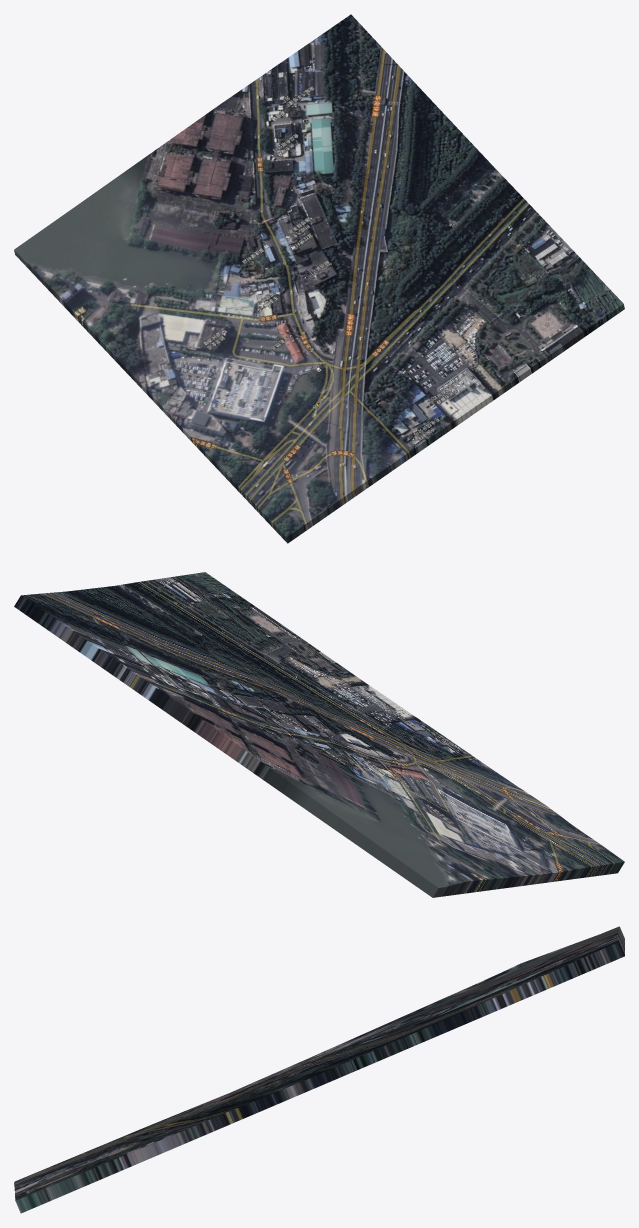
3 views of the same model, one above another, from view 1: azimuth 30°, elevation 25°; view 2: azimuth 150°, elevation 25°; view 3: azimuth 270°, elevation 25° (orthographic). The views are drawn at different scales.
Parts seen in each view (by area): view 1: 0_18_26; view 2: 0_18_26; view 3: 0_18_26.
Part boxes in pixels (left/top/right/bottom): 0_18_26: left=14, top=14, right=624, bottom=543; 0_18_26: left=14, top=572, right=624, bottom=897; 0_18_26: left=14, top=926, right=624, bottom=1213.
Bounding box in the file's own units: 597 × 440 × 548.
1 material, 1 textured.
